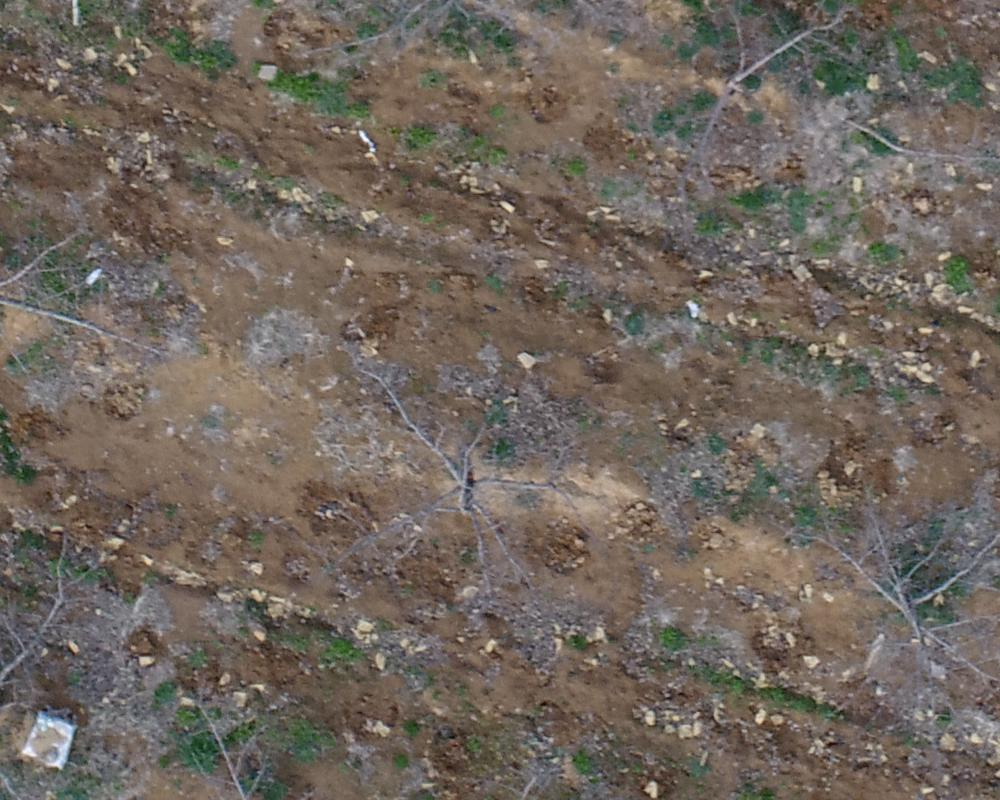apple: (341, 358, 563, 624), (787, 467, 990, 710), (10, 161, 176, 420), (647, 10, 849, 180)
